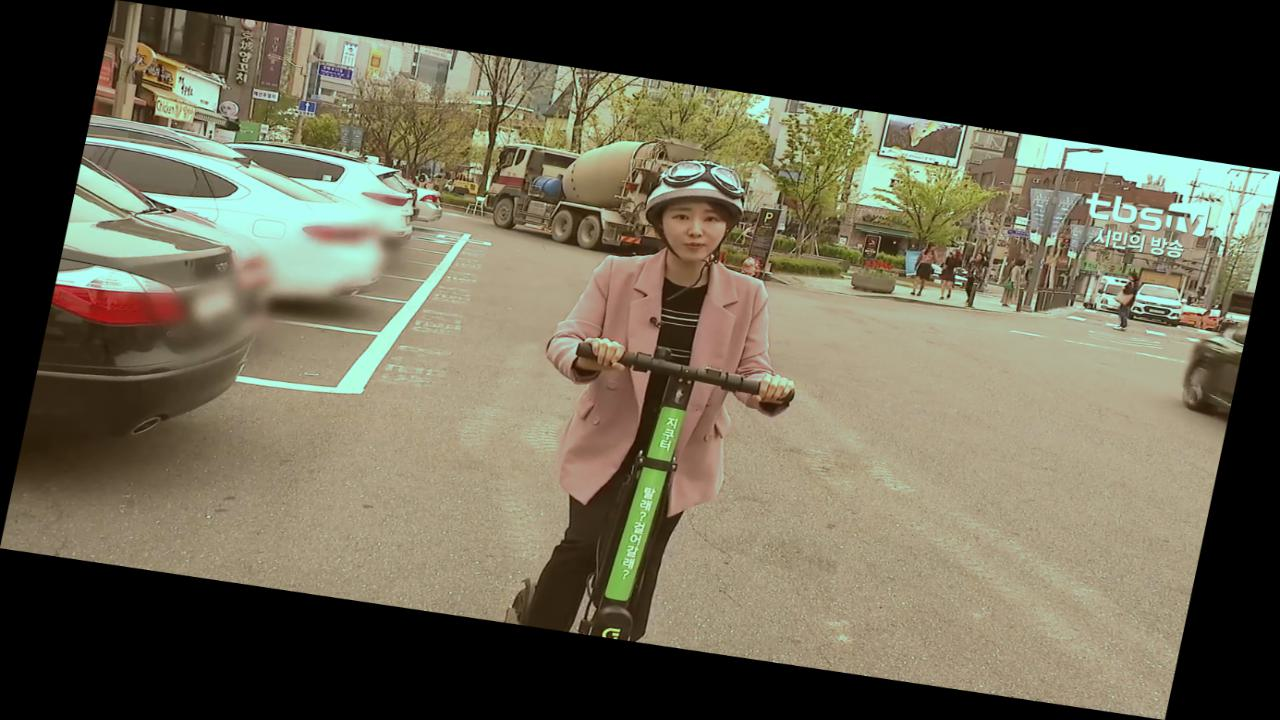helmet: (488, 142, 842, 658)
